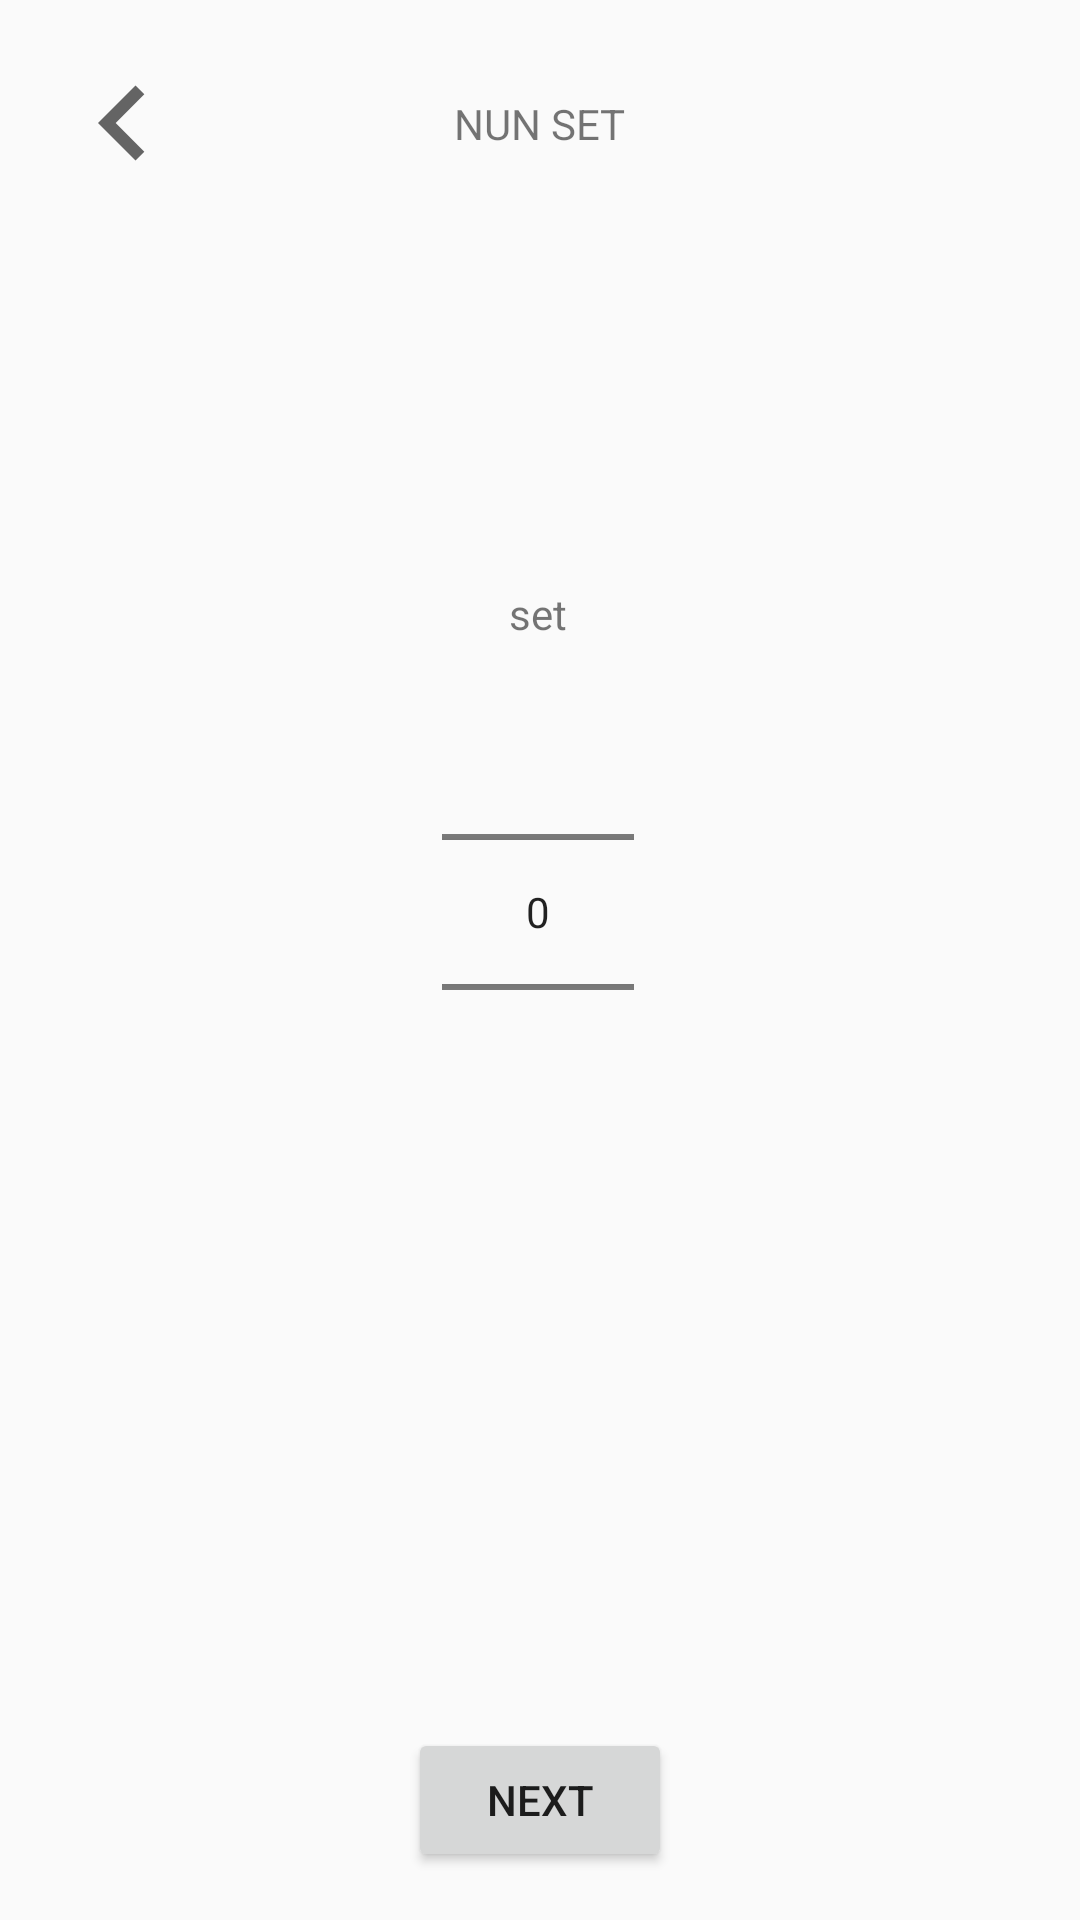

Where to tap for icons on this 1080 x 1920 app screen, as (x,y):
chevron left: (121,123)
